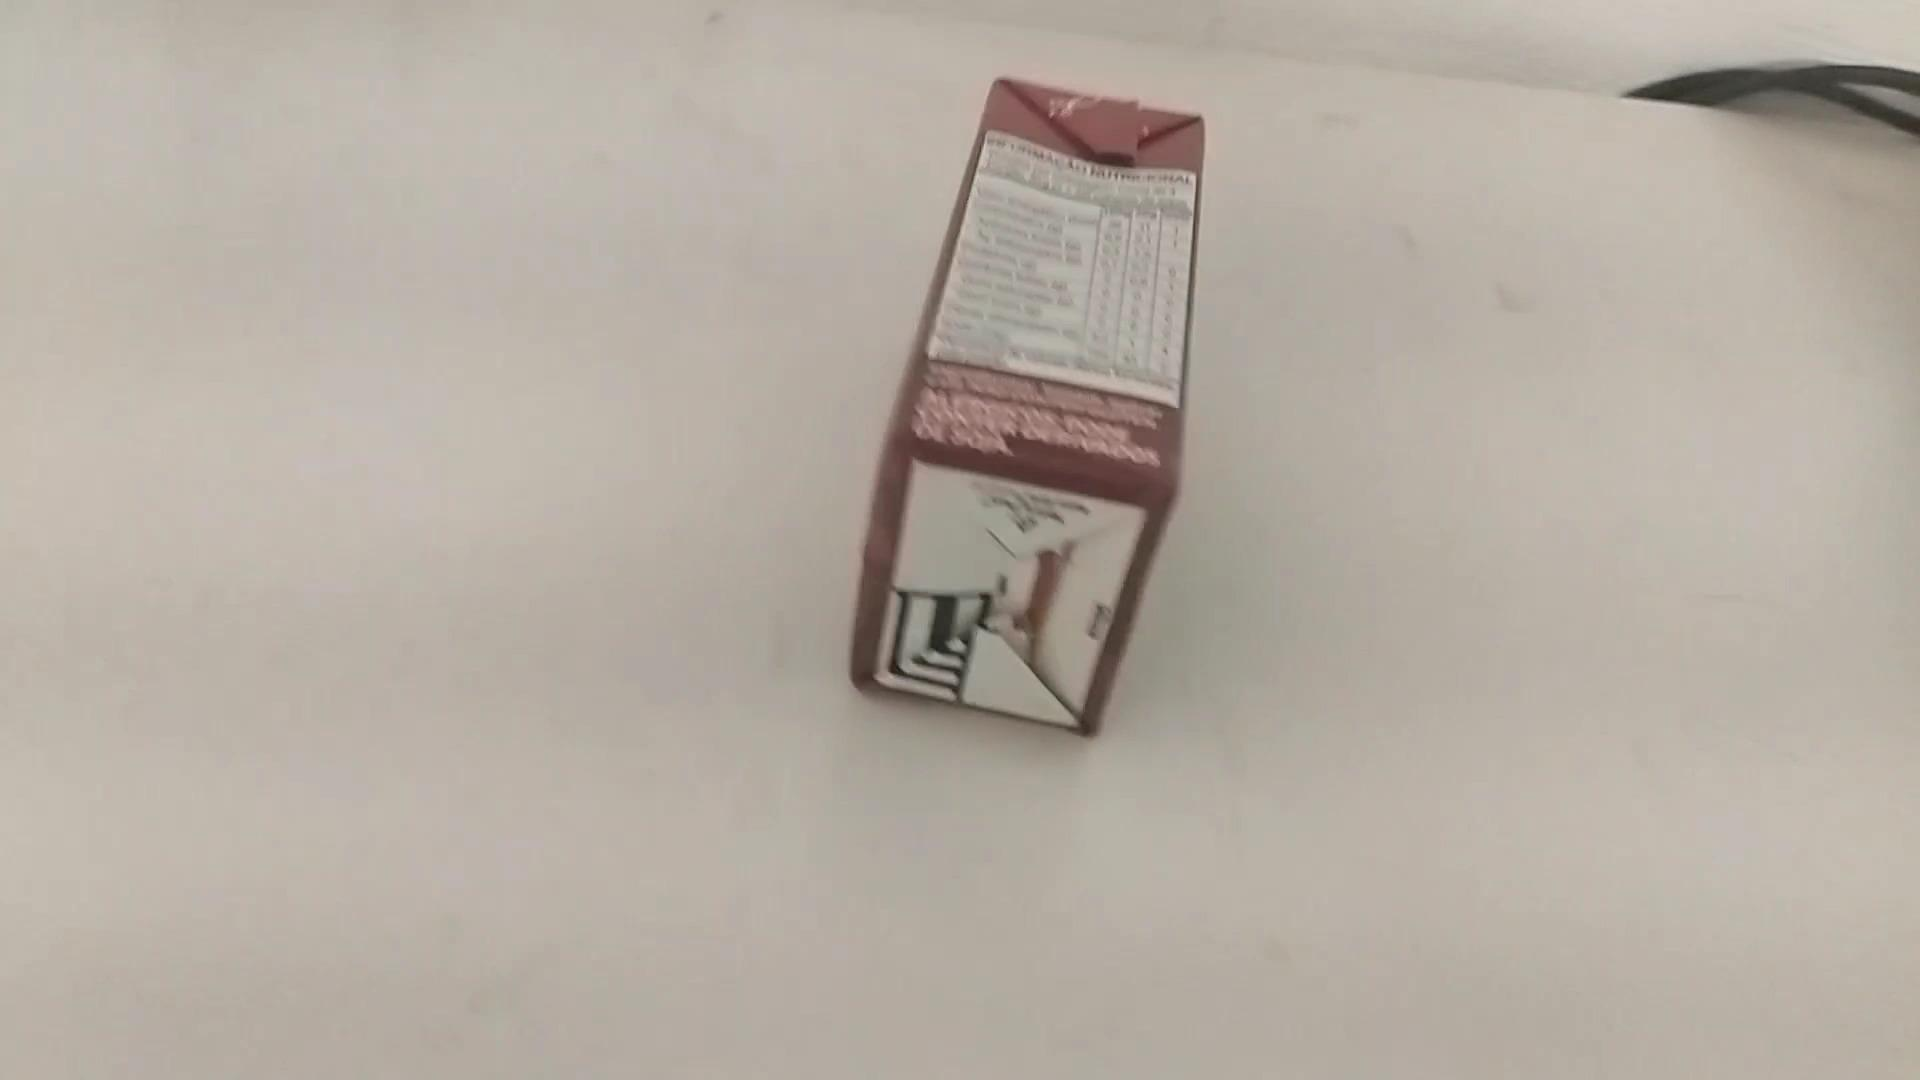tomate: (848, 75, 1208, 745)
